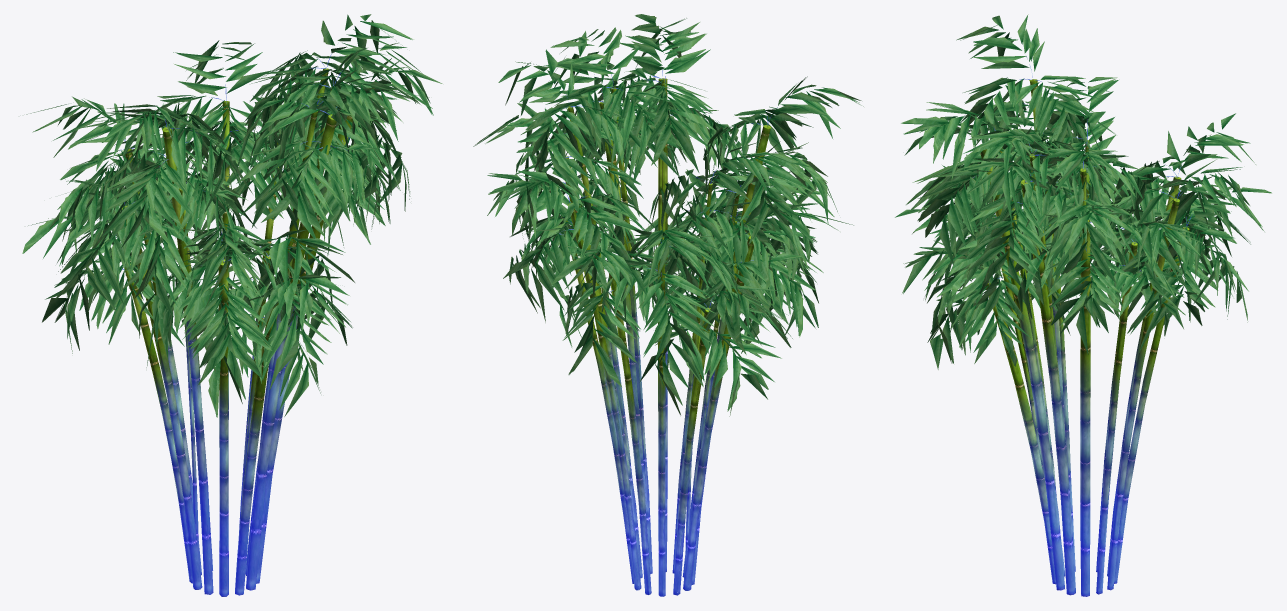
The picture shows the model from 3 angles, left to right: view 1: azimuth 30°, elevation 25°; view 2: azimuth 150°, elevation 25°; view 3: azimuth 270°, elevation 25°; orthographic projection. The views are drawn at different scales.
Parts seen in each view (by area): view 1: bamboo_tree_Leaf_0.001, bamboo_tree_Trunk_0; view 2: bamboo_tree_Leaf_0.001, bamboo_tree_Trunk_0; view 3: bamboo_tree_Leaf_0.001, bamboo_tree_Trunk_0.
Boxes of the visible parts, box(x1,y1,x2,y2) form: bamboo_tree_Leaf_0.001: box(22, 14, 442, 417); bamboo_tree_Trunk_0: box(88, 41, 377, 596); bamboo_tree_Leaf_0.001: box(473, 14, 863, 416); bamboo_tree_Trunk_0: box(543, 69, 777, 596); bamboo_tree_Leaf_0.001: box(895, 14, 1271, 369); bamboo_tree_Trunk_0: box(972, 56, 1211, 596).
Size of the model in its own units: 3.15 by 4.28 by 2.93.
Materials: 2 (2 with a texture image).
